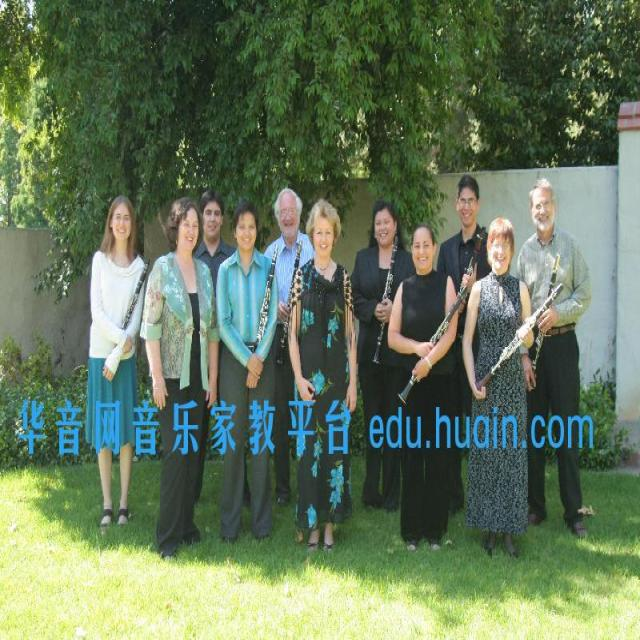clarinet: (472, 282, 566, 396), (396, 280, 471, 405), (368, 232, 400, 372), (530, 252, 561, 381), (254, 237, 280, 360), (281, 236, 305, 351), (118, 254, 152, 330)
